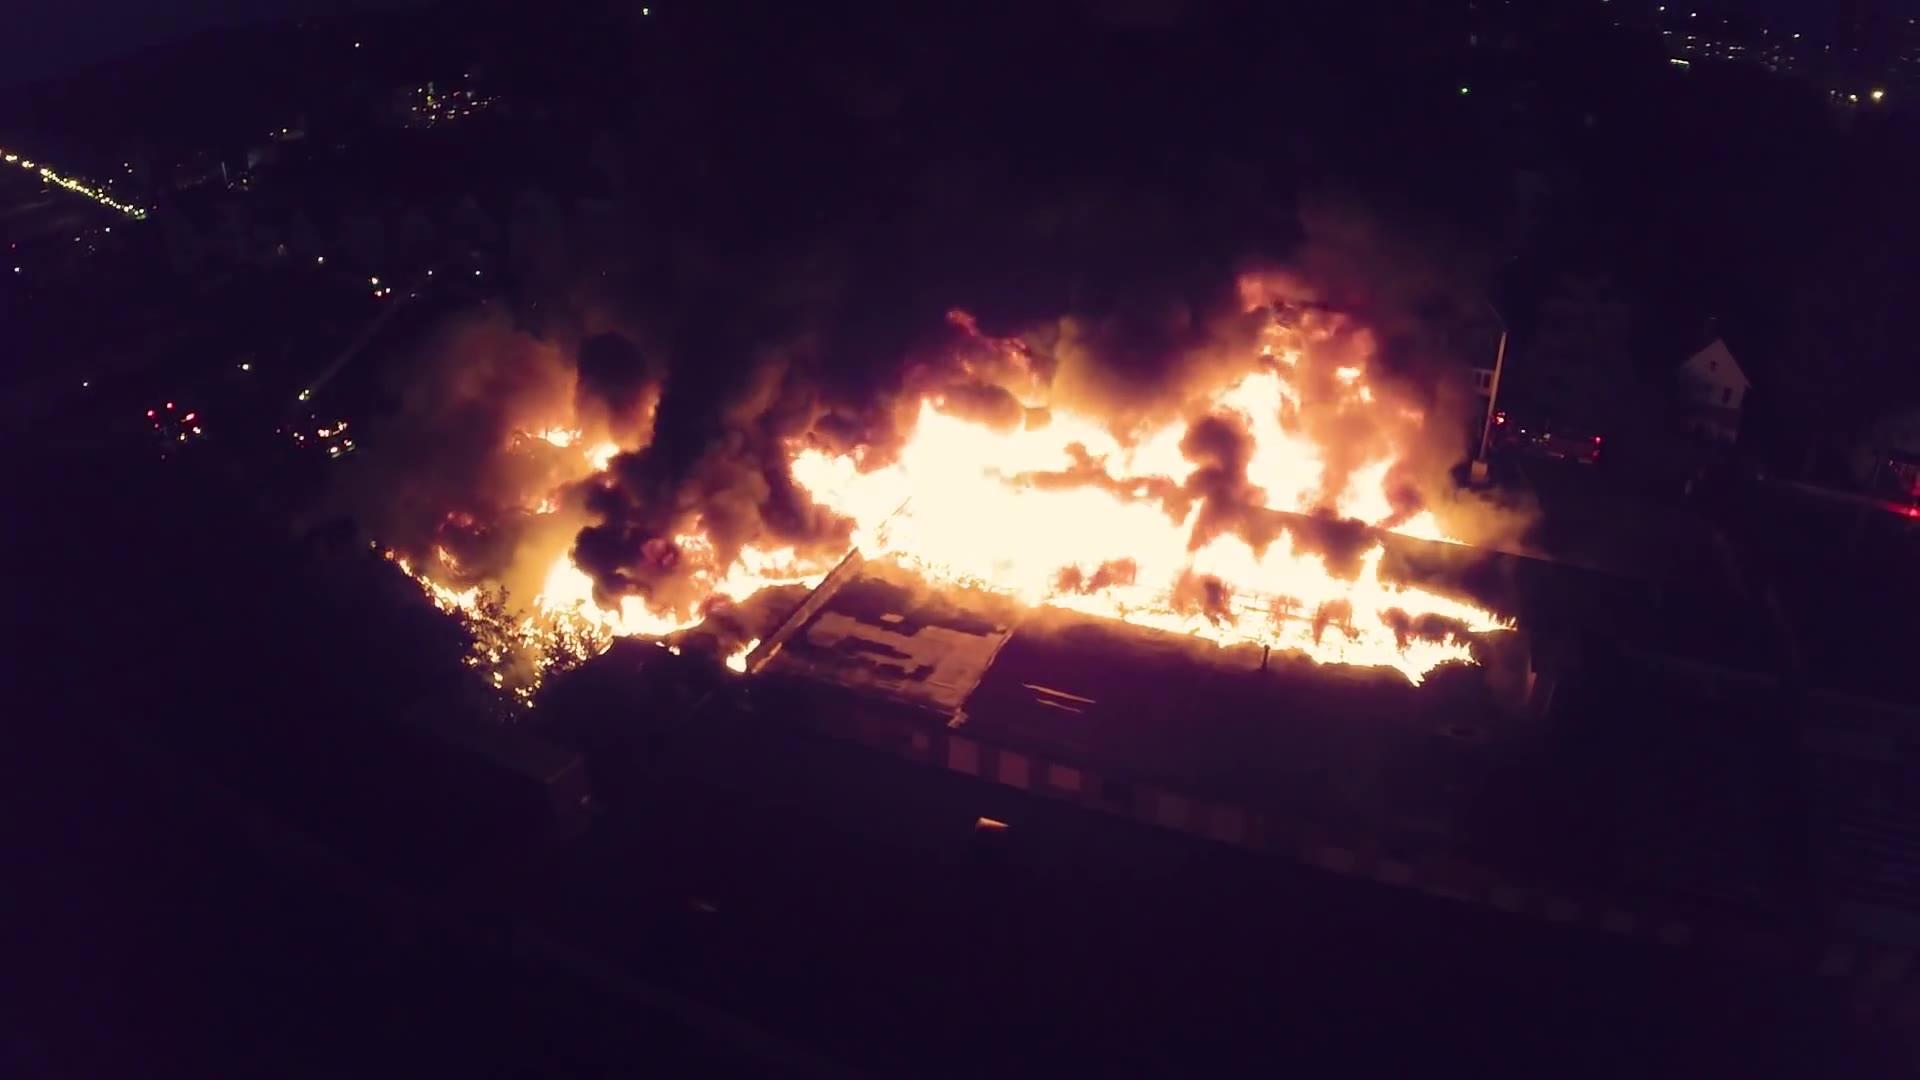fire: (851, 280, 1523, 696), (384, 332, 843, 692)
